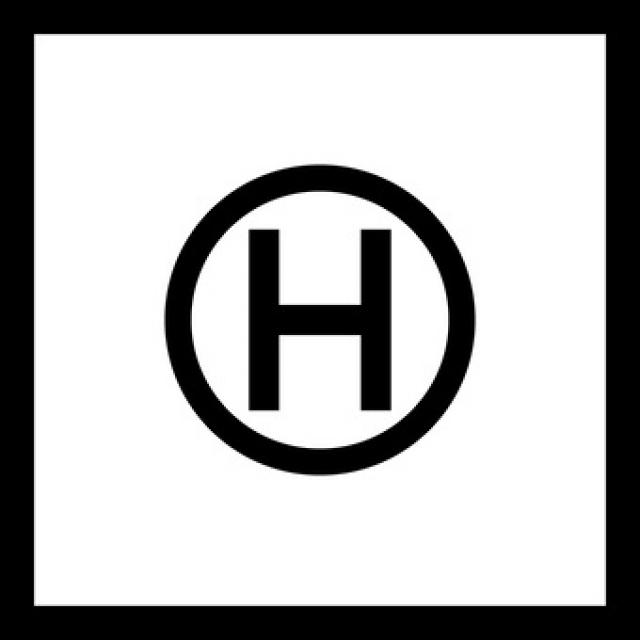helipad: (149, 158, 478, 480)
